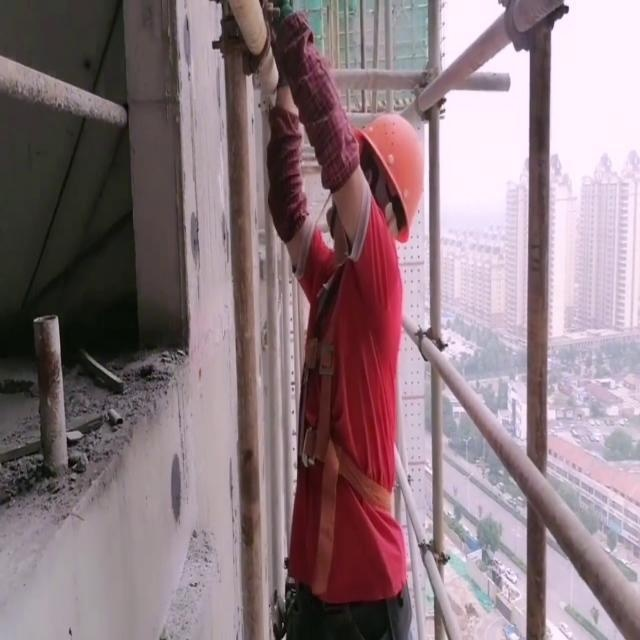Arnes_seguridad: (293, 236, 405, 527)
